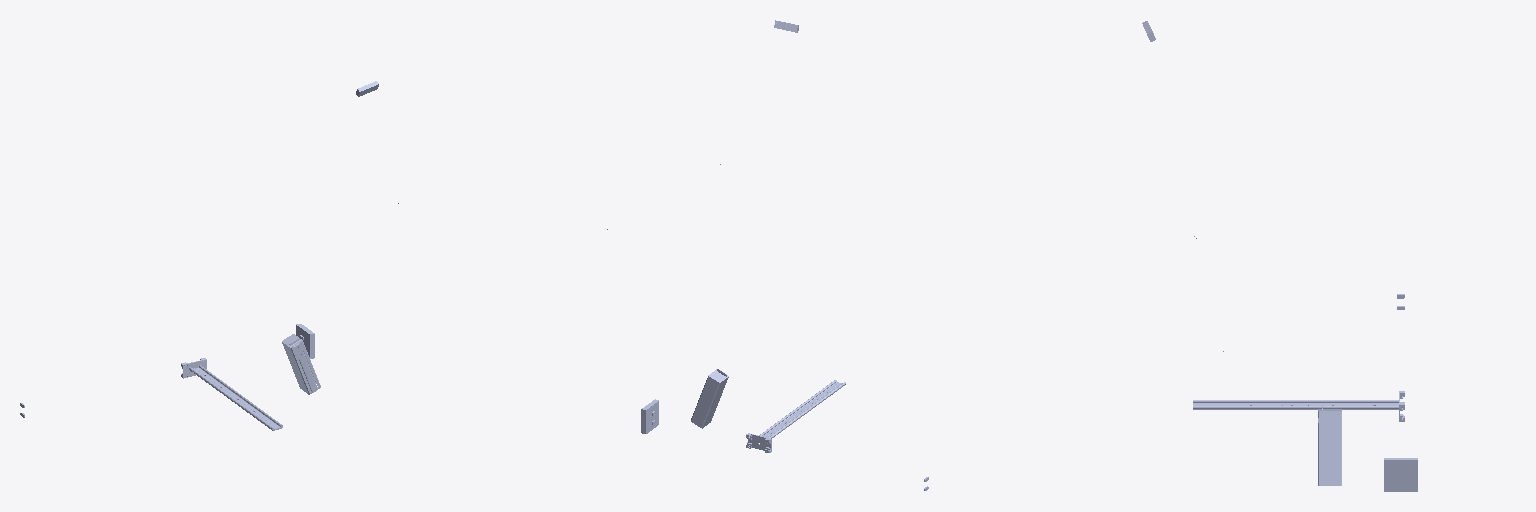
--- What the picture shows (computed from the rendered views, not written in the file) ---
Views: 3 orthographic renders of the robot side by side, from view 1: azimuth 30°, elevation 25°; view 2: azimuth 150°, elevation 25°; view 3: azimuth 270°, elevation 25°.
Robot: robo_description — 21 links, 20 joints (2 revolute, 2 prismatic, 16 fixed); root link base_link; default pose: joints at zero except 1 at the middle of their limits (joint5 = 0.4665).
Visible links, largest first — view 1: link2, link5; view 2: link2, link5, base_link; view 3: link2, link5, base_link.
Link boxes in pixels (<box>): link2: <box>181,358,282,430</box>; link5: <box>282,334,320,394</box>; link2: <box>746,380,845,452</box>; link5: <box>691,369,728,428</box>; base_link: <box>641,399,928,490</box>; link2: <box>1193,391,1404,421</box>; link5: <box>1318,406,1341,485</box>; base_link: <box>1384,294,1417,491</box>.
Bounding box of the posed robot: 1.65 × 0.8049 × 1.46 m (x, y, z).
4 mesh visuals loaded from 6 distinct referenced files (4 binary STL); not drawn: 2 (reference not matched to a file when rendering).

The robot description file, URDF, robot "robo_description":
<?xml version="1.0" encoding="utf-8"?>
<!-- 25AUG2023 Changed the minimum limit of lJoint5 to 0.247 and max to 0.686 -->
<!-- This URDF was automatically created by SolidWorks to URDF Exporter! Originally created by Stephen Brawner ([email redacted]) 
     Commit Version: 1.6.0-4-g7f85cfe  Build Version: 1.6.7995.38578
     For more information, please see http://wiki.ros.org/sw_urdf_exporter -->
<robot
  name="robo_description">
  <link
    name="base_link">
    <inertial>
      <origin
        xyz="-5.13826234849775E-17 -1.63904738952765E-17 0.339473684210526"
        rpy="0 0 0" />
      <mass
        value="19" />
      <inertia
        ixx="2.34956140350877"
        ixy="1.11311423041845E-17"
        ixz="3.69215798456927E-16"
        iyy="2.34956140350877"
        iyz="-7.44985984223617E-17"
        izz="0.151666666666667" />
    </inertial>
    <visual>
      <origin
        xyz="0 0 0"
        rpy="0 0 0" />
      <geometry>
        <mesh
          filename="package://robo_description/meshes/base_link.STL" />
      </geometry>
      <material
        name="">
        <color
          rgba="0.792156862745098 0.819607843137255 0.933333333333333 1" />
      </material>
    </visual>
    <collision>
      <origin
        xyz="0 0 0"
        rpy="0 0 0" />
      <geometry>
        <mesh
          filename="package://robo_description/meshes/base_link.STL" />
      </geometry>
    </collision>
  </link>
  <link
    name="link2">
    <inertial>
      <origin
        xyz="-0.001261 -0.2858 0.14572"
        rpy="0 0 0" />
      <mass
        value="3.13280329013611" />
      <inertia
        ixx="0.0169430024052603"
        ixy="-0.00280446630124331"
        ixz="0.0223183329111622"
        iyy="0.162057682822749"
        iyz="0.000505061238040558"
        izz="0.161640952999751" />
    </inertial>
    <visual>
      <origin
        xyz="0 0 -1"
        rpy="0 0 0" />
      <geometry>
        <mesh
          filename="package://robo_description/meshes/link2.STL" />
      </geometry>
      <material
        name="">
        <color
          rgba="0.792156862745098 0.819607843137255 0.933333333333333 1" />
      </material>
    </visual>
    <collision>
      <origin
        xyz="0 0 0"
        rpy="0 0 0" />
      <geometry>
        <mesh
          filename="package://robo_description/meshes/link2.STL" />
      </geometry>
    </collision>
  </link>
  <joint
    name="joint2"
    type="prismatic">
    <origin
      xyz="0.0 0 1"
      rpy="0 0 0" />
    <parent
      link="base_link" />
    <child
      link="link2" />
    <axis
      xyz="0 0 1" />
    <limit
      lower="0"
      upper="1"
      effort="0"
      velocity="0" />
  </joint>
  <link
    name="link4">
    <inertial>
      <origin
        xyz="-0.000438554587764983 0.0620490502692163 -0.172885898172371"
        rpy="0 0 0" />
      <mass
        value="0.162146723185788" />
      <inertia
        ixx="0.00336616371871891"
        ixy="1.46811284877534E-06"
        ixz="-3.57096843523024E-06"
        iyy="0.00312866852492012"
        iyz="0.00048231220150353"
        izz="0.000338308018448651" />
    </inertial>
    <visual>
      <origin
        xyz="-0.4665 0 -0.790"
        rpy="0 0 0" />
      <geometry>
        <mesh
          filename="package://robo_description/meshes/link4.STL" />
      </geometry>
      <material
        name="">
        <color
          rgba="0.792156862745098 0.819607843137255 0.933333333333333 1" />
      </material>
    </visual>
    <collision>
      <origin
        xyz="0 0 0"
        rpy="0 0 0" />
      <geometry>
        <mesh
          filename="package://robo_description/meshes/link4.STL" />
      </geometry>
    </collision>
  </link>
  <joint
    name="joint4"
    type="revolute">
    <origin
      xyz="0.46904 0 -0.21"
      rpy="0 0 0" />
    <parent
      link="link2" />
    <child
      link="link4" />
    <axis
      xyz="0 0 1" />
    <limit
      lower="-2.9671"
      upper="2.9671"
      effort="0"
      velocity="0" />
  </joint>
  <link
    name="link3">
    <inertial>
      <origin
        xyz="-0.0832189655707039 -0.0894795892974461 -0.00179630042130147"
        rpy="0 0 0" />
      <mass
        value="1.71811977068641" />
      <inertia
        ixx="0.00948440583507882"
        ixy="-0.00159429497921182"
        ixz="0.00308193362516688"
        iyy="0.035537875179704"
        iyz="0.000648421421055908"
        izz="0.0305779645247813" />
    </inertial>
    <visual>
      <origin
        xyz="-0.468545 -0.078 -0.43528"
        rpy="0 0 0" />
      <geometry>
        <mesh
          filename="package://robo_description/meshes/link3.STL" />
      </geometry>
      <material
        name="">
        <color
          rgba="0.792156862745098 0.819607843137255 0.933333333333333 1" />
      </material>
    </visual>
    <collision>
      <origin
        xyz="0 0 0"
        rpy="0 0 0" />
      <geometry>
        <mesh
          filename="package://robo_description/meshes/link3.STL" />
      </geometry>
    </collision>
  </link>
  <joint
    name="joint3"
    type="revolute">
    <origin
      xyz="0.0 0.077824 -0.35472"
      rpy="0 0 0" />
    <parent
      link="link4" />
    <child
      link="link3" />
    <axis
      xyz="0 1 0" />
    <limit
      lower="-1.5708"
      upper="1.5708"
      effort="0"
      velocity="0" />
  </joint>
  <link
    name="yanthra_link">
    <inertial>
      <origin
        xyz="-0.0832189655707036 -0.0114795892974462 -0.00179630042130124"
        rpy="0 0 0" />
      <mass
        value="1.71811977068641" />
      <inertia
        ixx="0.00948440583507882"
        ixy="-0.00159429497921182"
        ixz="0.0030819336251669"
        iyy="0.035537875179704"
        iyz="0.000648421421055907"
        izz="0.0305779645247813" />
    </inertial>
    <visual>
      <origin
        xyz="0 0 0"
        rpy="0 0 0" />
      <geometry>
        <box size="0.001 0.001 0.001"/>
      </geometry>
      <material
        name="">
        <color
          rgba="0.792156862745098 0.819607843137255 0.933333333333333 1" />
      </material>
    </visual>
    <collision>
      <origin
        xyz="0 0 0"
        rpy="0 0 0" />
      <geometry>
        <box size="0.001 0.001 0.001"/>
      </geometry>
    </collision>
  </link>
  <joint
    name="yanthra_joint"
    type="fixed">
    <origin
      xyz="0 -0.078 0"
      rpy="0 0 0" />
    <parent
      link="link3" />
    <child
      link="yanthra_link" />
    <axis
      xyz="0 0 0" />
  </joint>
  <link
    name="link5_origin">
    <inertial>
      <origin
        xyz="-0.00874999999999998 0.0375 -0.00507843424240889"
        rpy="0 0 0" />
      <mass
        value="0.0438088883035136" />
      <inertia
        ixx="3.24913884800222E-05"
        ixy="1.33063310958086E-21"
        ixz="-8.470329472543E-22"
        iyy="3.99574478810853E-06"
        iyz="-3.38875204913906E-21"
        izz="3.07317223657389E-05" />
    </inertial>
    <visual>
      <origin
        xyz="0 0 0"
        rpy="0 0 0" />
      <geometry>
        <box size="0.001 0.001 0.001"/>
      </geometry>
      <material
        name="">
        <color
          rgba="0.792156862745098 0.819607843137255 0.933333333333333 1" />
      </material>
    </visual>
    <collision>
      <origin
        xyz="0 0 0"
        rpy="0 0 0" />
      <geometry>
        <box size="0.001 0.001 0.001"/>
      </geometry>
    </collision>
  </link>
  <joint
    name="link5_origin_joint"
    type="fixed">
    <origin
      xyz="0 0 0.0"
      rpy="0 0 0" />
    <parent	
      link="yanthra_link" />
    <child
      link="link5_origin" />
    <axis
      xyz="0 0 0" />
  </joint>
  <link
    name="link5">
    <inertial>
      <origin
        xyz="0.108132413871145 2.08242781028485E-06 0.00569147154470495"
        rpy="0 0 0" />
      <mass
        value="0.277404400359573" />
      <inertia
        ixx="0.00021628976171093"
        ixy="1.27900715148446E-06"
        ixz="-0.000135093187106687"
        iyy="0.00359200319167061"
        iyz="-8.36237914028336E-08"
        izz="0.00358633509004247" />
    </inertial>
    <visual>
      <origin
        xyz="-0.715545 0 -0.43528"
        rpy="0 0 0" />
      <geometry>
        <mesh
          filename="package://robo_description/meshes/link5.STL" />
      </geometry>
      <material
        name="">
        <color
          rgba="0.792156862745098 0.819607843137255 0.933333333333333 1" />
      </material>
    </visual>
    <collision>
      <origin
        xyz="0 0 0"
        rpy="0 0 0" />
      <geometry>
        <mesh
          filename="package://robo_description/meshes/link5.STL" />
      </geometry>
    </collision>
  </link>
  <joint
    name="joint5"
    type="prismatic">
    <origin
      xyz="0.0 0 0"
      rpy="0 0 0" />
    <parent
      link="link5_origin" />
    <child
      link="link5" />
    <axis
      xyz="1 0 0" />
    <limit
      lower="0.247"
      upper="0.686"
      effort="0"
      velocity="0" />
  </joint>
  <link
    name="ee_link">
    <inertial>
      <origin
        xyz="-0.00874999999999998 0.0375 -0.00507843424240889"
        rpy="0 0 0" />
      <mass
        value="0.0438088883035136" />
      <inertia
        ixx="3.24913884800222E-05"
        ixy="1.33063310958086E-21"
        ixz="-8.470329472543E-22"
        iyy="3.99574478810853E-06"
        iyz="-3.38875204913906E-21"
        izz="3.07317223657389E-05" />
    </inertial>
    <visual>
      <origin
        xyz="0 0 0"
        rpy="0 0 0" />
      <geometry>
        <box size="0.001 0.001 0.001"/>
      </geometry>
      <material
        name="">
        <color
          rgba="0.792156862745098 0.819607843137255 0.933333333333333 1" />
      </material>
    </visual>
    <collision>
      <origin
        xyz="0 0 0"
        rpy="0 0 0" />
      <geometry>
        <box size="0.001 0.001 0.001"/>
      </geometry>
    </collision>
  </link>
  <joint
    name="ee_joint"
    type="fixed">
    <origin
      xyz="-0.085 0 0"
      rpy="0 0 0" />
    <parent	
      link="link5" />
    <child
      link="ee_link" />
    <axis
      xyz="0 0 0" />
  </joint>
  <link
    name="aruco_marker_link">
    <inertial>
      <origin
        xyz="-0.00874999999999998 0.0375 -0.00507843424240889"
        rpy="0 0 0" />
      <mass
        value="0.0438088883035136" />
      <inertia
        ixx="3.24913884800222E-05"
        ixy="1.33063310958086E-21"
        ixz="-8.470329472543E-22"
        iyy="3.99574478810853E-06"
        iyz="-3.38875204913906E-21"
        izz="3.07317223657389E-05" />
    </inertial>
    <visual>
      <origin
        xyz="0 0 0"
        rpy="0 0 0" />
      <geometry>
        <box size="0.001 0.001 0.001"/>
      </geometry>
      <material
        name="">
        <color
          rgba="0.792156862745098 0.819607843137255 0.933333333333333 1" />
      </material>
    </visual>
    <collision>
      <origin
        xyz="0 0 0"
        rpy="0 0 0" />
      <geometry>
        <box size="0.001 0.001 0.001"/>
      </geometry>
    </collision>
  </link>
  <joint
    name="aruco_joint"
    type="fixed">
    <origin
      xyz="0.0 0 0.08"
      rpy="0 0 0" />
    <parent	
      link="ee_link" />
    <child
      link="aruco_marker_link" />
    <axis
      xyz="0 0 0" />
  </joint>
  <link
    name="aruco_link_1">
    <inertial>
      <origin
        xyz="-0.00874999999999998 0.0375 -0.00507843424240889"
        rpy="0 0 0" />
      <mass
        value="0.0438088883035136" />
      <inertia
        ixx="3.24913884800222E-05"
        ixy="1.33063310958086E-21"
        ixz="-8.470329472543E-22"
        iyy="3.99574478810853E-06"
        iyz="-3.38875204913906E-21"
        izz="3.07317223657389E-05" />
    </inertial>
    <visual>
      <origin
        xyz="0 0 0"
        rpy="0 0 0" />
      <geometry>
        <box size="0.001 0.001 0.001"/>
      </geometry>
      <material
        name="">
        <color
          rgba="0.792156862745098 0.819607843137255 0.933333333333333 1" />
      </material>
    </visual>
    <collision>
      <origin
        xyz="0 0 0"
        rpy="0 0 0" />
      <geometry>
        <box size="0.001 0.001 0.001"/>
      </geometry>
    </collision>
  </link>
  <joint
    name="aruco_joint_1"
    type="fixed">
    <origin
      xyz="0.0 0.04 0.04"
      rpy="0 0 0" />
    <parent	
      link="aruco_marker_link" />
    <child
      link="aruco_link_1" />
    <axis
      xyz="0 0 0" />
  </joint>
  <link
    name="aruco_link_2">
    <inertial>
      <origin
        xyz="-0.00874999999999998 0.0375 -0.00507843424240889"
        rpy="0 0 0" />
      <mass
        value="0.0438088883035136" />
      <inertia
        ixx="3.24913884800222E-05"
        ixy="1.33063310958086E-21"
        ixz="-8.470329472543E-22"
        iyy="3.99574478810853E-06"
        iyz="-3.38875204913906E-21"
        izz="3.07317223657389E-05" />
    </inertial>
    <visual>
      <origin
        xyz="0 0 0"
        rpy="0 0 0" />
      <geometry>
        <box size="0.001 0.001 0.001"/>
      </geometry>
      <material
        name="">
        <color
          rgba="0.792156862745098 0.819607843137255 0.933333333333333 1" />
      </material>
    </visual>
    <collision>
      <origin
        xyz="0 0 0"
        rpy="0 0 0" />
      <geometry>
        <box size="0.001 0.001 0.001"/>
      </geometry>
    </collision>
  </link>
  <joint
    name="aruco_joint_2"
    type="fixed">
    <origin
      xyz="0.0 -0.04 0.04"
      rpy="0 0 0" />
    <parent	
      link="aruco_marker_link" />
    <child
      link="aruco_link_2" />
    <axis
      xyz="0 0 0" />
  </joint>
  <link
    name="aruco_link_3">
    <inertial>
      <origin
        xyz="-0.00874999999999998 0.0375 -0.00507843424240889"
        rpy="0 0 0" />
      <mass
        value="0.0438088883035136" />
      <inertia
        ixx="3.24913884800222E-05"
        ixy="1.33063310958086E-21"
        ixz="-8.470329472543E-22"
        iyy="3.99574478810853E-06"
        iyz="-3.38875204913906E-21"
        izz="3.07317223657389E-05" />
    </inertial>
    <visual>
      <origin
        xyz="0 0 0"
        rpy="0 0 0" />
      <geometry>
        <box size="0.001 0.001 0.001"/>
      </geometry>
      <material
        name="">
        <color
          rgba="0.792156862745098 0.819607843137255 0.933333333333333 1" />
      </material>
    </visual>
    <collision>
      <origin
        xyz="0 0 0"
        rpy="0 0 0" />
      <geometry>
        <box size="0.001 0.001 0.001"/>
      </geometry>
    </collision>
  </link>
  <joint
    name="aruco_joint_3"
    type="fixed">
    <origin
      xyz="0.0 0.04 -0.04"
      rpy="0 0 0" />
    <parent	
      link="aruco_marker_link" />
    <child
      link="aruco_link_3" />
    <axis
      xyz="0 0 0" />
  </joint>
  <link
    name="aruco_link_4">
    <inertial>
      <origin
        xyz="-0.00874999999999998 0.0375 -0.00507843424240889"
        rpy="0 0 0" />
      <mass
        value="0.0438088883035136" />
      <inertia
        ixx="3.24913884800222E-05"
        ixy="1.33063310958086E-21"
        ixz="-8.470329472543E-22"
        iyy="3.99574478810853E-06"
        iyz="-3.38875204913906E-21"
        izz="3.07317223657389E-05" />
    </inertial>
    <visual>
      <origin
        xyz="0 0 0"
        rpy="0 0 0" />
      <geometry>
        <box size="0.001 0.001 0.001"/>
      </geometry>
      <material
        name="">
        <color
          rgba="0.792156862745098 0.819607843137255 0.933333333333333 1" />
      </material>
    </visual>
    <collision>
      <origin
        xyz="0 0 0"
        rpy="0 0 0" />
      <geometry>
        <box size="0.001 0.001 0.001"/>
      </geometry>
    </collision>
  </link>
  <joint
    name="aruco_joint_4"
    type="fixed">
    <origin
      xyz="0.0 -0.04 -0.04"
      rpy="0 0 0" />
    <parent	
      link="aruco_marker_link" />
    <child
      link="aruco_link_4" />
    <axis
      xyz="0 0 0" />
  </joint>
  <link
    name="link7">
    <inertial>
      <origin
        xyz="-0.00129487747822488 -0.0114795892973884 0.11996423535158"
        rpy="0 0 0" />
      <mass
        value="1.71811977068641" />
      <inertia
        ixx="0.0113386071435481"
        ixy="-0.00171490439294498"
        ixz="-0.00672100859249017"
        iyy="0.0355378751797041"
        iyz="-0.0001460470577602"
        izz="0.0287237632163119" />
    </inertial>
    <visual>
      <origin
        xyz="0 0 0"
        rpy="0 0 0" />
      <geometry>
        <box size="0.001 0.001 0.001"/>
      </geometry>
      <material
        name="">
        <color
          rgba="0.792156862745098 0.819607843137255 0.933333333333333 1" />
      </material>
    </visual>
    <collision>
      <origin
        xyz="0 0 0"
        rpy="0 0 0" />
      <geometry>
        <box size="0.001 0.001 0.001"/>
      </geometry>
    </collision>
  </link>
  <joint
    name="joint7"
    type="fixed">
    <origin
      xyz="0.47229 -0.069971 0.80411"
      rpy="0 0.785398 -1.5708" />
    <parent
      link="base_link"/>
    <child
      link="link7"/>
    <axis
      xyz="0 0 0" />
  </joint>
  <link
    name="camera_mount_link">
    <inertial>
      <origin
        xyz="-0.00129487747822488 -0.0114795892973883 0.11996423535158"
        rpy="0 0 0" />
      <mass
        value="1.71811977068641" />
      <inertia
        ixx="0.0113386071435481"
        ixy="-0.00171490439294498"
        ixz="-0.00672100859249018"
        iyy="0.0355378751797041"
        iyz="-0.000146047057760202"
        izz="0.0287237632163119" />
    </inertial>
    <visual>
      <origin
        xyz="0 0 0"
        rpy="0 0 0" />
      <geometry>
        <box size="0.001 0.001 0.001"/>
      </geometry>
      <material
        name="">
        <color
          rgba="0.792156862745098 0.819607843137255 0.933333333333333 1" />
      </material>
    </visual>
    <collision>
      <origin
        xyz="0 0 0"
        rpy="0 0 0" />
      <geometry>
        <box size="0.001 0.001 0.001"/>
      </geometry>
    </collision>
  </link>
     <!--Realsense Camera depth is 20 mm from back to glass, But the depth start point(GROUND ZERO REFERENCE i.e depth is Zero) is 1.1 mm behind glass-->
     <!--Camera thickness-Zero Ref +Plate thick=20-1.1+2 = 20.09 mm -->
     <!-- xyz="0.0209 -0.0375 0"-->
  <joint
    name="camera_mount_joint"
    type="fixed">
    <origin
      xyz="0.02090 -0.0375 0"
      rpy="-1.5708 0 -1.5708" />
    <parent
      link="link7" />
    <child
      link="camera_mount_link" />
    <axis
      xyz="0 0 0" />
  </joint>
  <link
    name="virtual_cam_link">
    <inertial>
      <origin
        xyz="-0.00874999999999998 0.0375 -0.00507843424240889"
        rpy="0 0 0" />
      <mass
        value="0.0438088883035136" />
      <inertia
        ixx="3.24913884800222E-05"
        ixy="1.33063310958086E-21"
        ixz="-8.470329472543E-22"
        iyy="3.99574478810853E-06"
        iyz="-3.38875204913906E-21"
        izz="3.07317223657389E-05" />
    </inertial>
    <visual>
      <origin
        xyz="0 0 0"
        rpy="0 0 0" />
      <geometry>
        <box size="0.001 0.001 0.001"/>
      </geometry>
      <material
        name="">
        <color
          rgba="0.792156862745098 0.819607843137255 0.933333333333333 1" />
      </material>
    </visual>
    <collision>
      <origin
        xyz="0 0 0"
        rpy="0 0 0" />
      <geometry>
        <box size="0.001 0.001 0.001"/>
      </geometry>
    </collision>
  </link>
  <joint
    name="virtual_cam_link_joint"
    type="fixed">
    <origin
      xyz="0 0 0"
      rpy="0 0 0" />
    <parent	
      link="camera_mount_link" />
    <child
      link="virtual_cam_link" />
    <axis
      xyz="0 0 0" />
  </joint>

  <link
    name="camera_link">
    <inertial>
      <origin
        xyz="-0.00874999999999998 0.0375 -0.00507843424240889"
        rpy="0 0 0" />
      <mass
        value="0.0438088883035136" />
      <inertia
        ixx="3.24913884800222E-05"
        ixy="1.33063310958086E-21"
        ixz="-8.470329472543E-22"
        iyy="3.99574478810853E-06"
        iyz="-3.38875204913906E-21"
        izz="3.07317223657389E-05" />
    </inertial>
    <visual>
      <origin
        xyz="-0.03768 -0.425 -0.175"
        rpy="0 -2.04 -1.5708" />
      <geometry>
        <mesh
          filename="package://robo_description/meshes/camera_link.STL" />
      </geometry>
      <material
        name="">
        <color
          rgba="0.792156862745098 0.819607843137255 0.933333333333333 1" />
      </material>
    </visual>
    <collision>
      <origin
        xyz="0 0 0"
        rpy="0 0 0" />
      <geometry>
        <mesh
          filename="package://robo_description/meshes/camera_link.STL" />
      </geometry>
    </collision>
  </link>
  <joint
    name="camera_link_joint"
    type="fixed">
    <origin
      xyz="-0.00482759 0.00758287 -0.00133433"
      rpy="0.0477442 -0.155907 -0.0736694" />
    <parent
      link="virtual_cam_link" />
    <child
      link="camera_link" />
    <axis
      xyz="0 0 0" />
  </joint>

  <link name="camera_depth_frame">

    <visual>

    <origin xyz="0 0 0" rpy="0 0 0" />

      <geometry>

        <box size="0.001 0.001 0.001"/>

      </geometry>

    </visual>

  </link>

  <joint name="camera_depth_frame_joint" type="fixed">

    <origin rpy="0 0 0" xyz="0 0 0"/>

    <parent link="camera_link"/>

    <child link="camera_depth_frame"/>

  </joint>

  <link name="camera_depth_optical_frame">

    <visual>

    <origin xyz="0 0 0" rpy="0 0 0" />

      <geometry>

        <box size="0.001 0.001 0.001"/>

      </geometry>

    </visual>

  </link>

  <joint name="camera_depth_optical_frame_joint" type="fixed">

   <origin rpy="0 0 0" xyz="0 0 0"/>

   <parent link="camera_depth_frame"/>

   <child link="camera_depth_optical_frame"/>

  </joint>

  <link name="camera_color_frame">

    <visual>

    <origin xyz="0 0 0" rpy="0 0 0" />

      <geometry>

        <box size="0.001 0.001 0.001"/>

      </geometry>

    </visual>

  </link>

  <joint name="camera_color_frame_joint" type="fixed">

    <origin rpy="0 0 0" xyz="0 0 0"/>

    <parent link="camera_link"/>

    <child link="camera_color_frame"/>

  </joint>

  <link name="camera_color_optical_frame">

    <visual>

    <origin xyz="0 0 0" rpy="0 0 0" />

      <geometry>

        <box size="0.001 0.001 0.001"/>

      </geometry>

    </visual>

  </link>

  <joint name="camera_color_optical_frame_joint" type="fixed">

   <origin rpy="0 0 0" xyz="0 0 0"/>

   <parent link="camera_color_frame"/>

   <child link="camera_color_optical_frame"/>

  </joint>
  <gazebo reference="stand">

    <material>Gazebo/Grey</material>

  </gazebo>

  <gazebo reference="link3">

    <material>Gazebo/Green</material>

  </gazebo>

  <gazebo reference="link4">

    <material>Gazebo/Red</material>

  </gazebo>

  <gazebo reference="link5">

    <material>Gazebo/Green</material>

  </gazebo>

  <gazebo reference="link9">

    <material>Gazebo/Red</material>

  </gazebo>

  <gazebo reference="link6">

    <material>Gazebo/White</material>

  </gazebo>

  <transmission name="tran1">

    <type>transmission_interface/SimpleTransmission</type>

    <joint name="joint3">

      <hardwareInterface>hardware_interface/PositionJointInterface</hardwareInterface>

    </joint>

    <actuator name="motor1">

      <hardwareInterface>hardware_interface/PositionJointInterface</hardwareInterface>

      <mechanicalReduction>1</mechanicalReduction>

    </actuator>

  </transmission>

  <transmission name="tran1">

    <type>transmission_interface/SimpleTransmission</type>

    <joint name="joint4">

      <hardwareInterface>hardware_interface/PositionJointInterface</hardwareInterface>

    </joint>

    <actuator name="motor1">

      <hardwareInterface>hardware_interface/PositionJointInterface</hardwareInterface>

      <mechanicalReduction>1</mechanicalReduction>

    </actuator>

  </transmission>

  <transmission name="tran1">

    <type>transmission_interface/SimpleTransmission</type>

    <joint name="joint5">

      <hardwareInterface>hardware_interface/PositionJointInterface</hardwareInterface>

    </joint>

    <actuator name="motor1">

      <hardwareInterface>hardware_interface/PositionJointInterface</hardwareInterface>

      <mechanicalReduction>1</mechanicalReduction>

    </actuator>

  </transmission>

  <gazebo>

    <plugin filename="libgazebo_ros_control.so" name="gazebo_ros_control">

      <robotNameSpace>/arm_controller</robotNameSpace>

    </plugin>

  </gazebo>

</robot>
